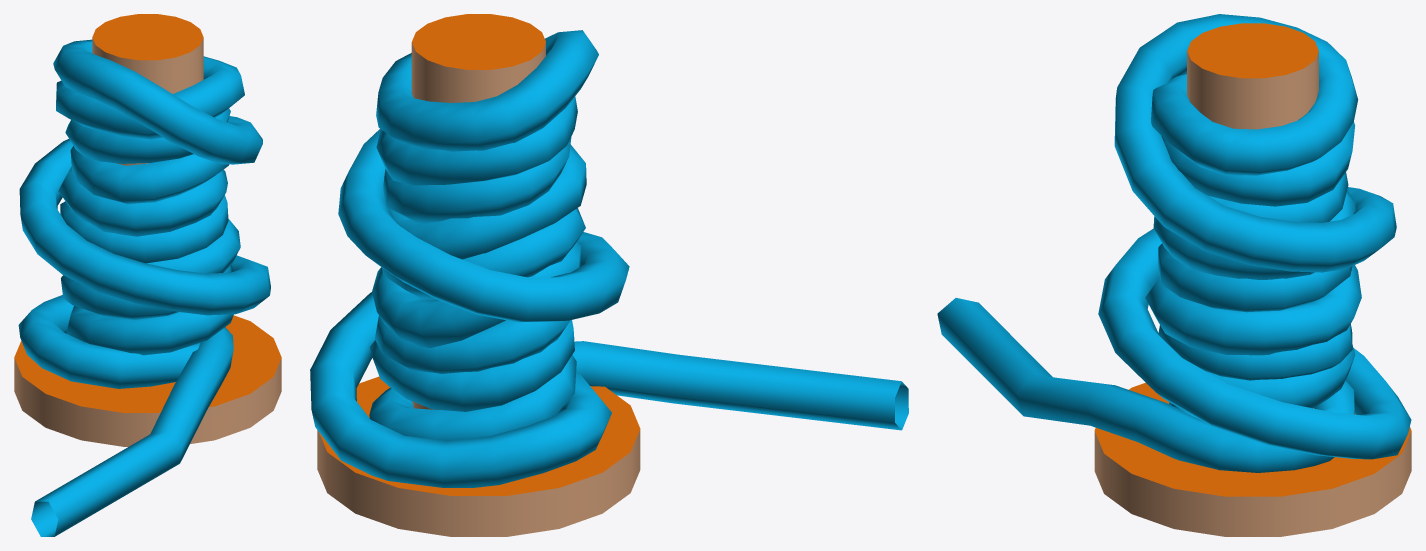
File: Cable_1.fbx
3 views of the same model, side by side, from view 1: azimuth 30°, elevation 25°; view 2: azimuth 150°, elevation 25°; view 3: azimuth 270°, elevation 25° (orthographic). The views are drawn at different scales.
Parts seen in each view (by area): view 1: NurbsPath.002, Cylinder.002; view 2: NurbsPath.002, Cylinder.002; view 3: NurbsPath.002, Cylinder.002.
Boxes of the visible parts, x1,y1,x2,y2 form: NurbsPath.002: [18, 39, 270, 536]; Cylinder.002: [14, 14, 281, 446]; NurbsPath.002: [310, 30, 908, 487]; Cylinder.002: [317, 14, 640, 536]; NurbsPath.002: [937, 14, 1411, 472]; Cylinder.002: [1094, 23, 1411, 536].
Size of the model in its own units: 5.07 by 4.99 by 5.1.
